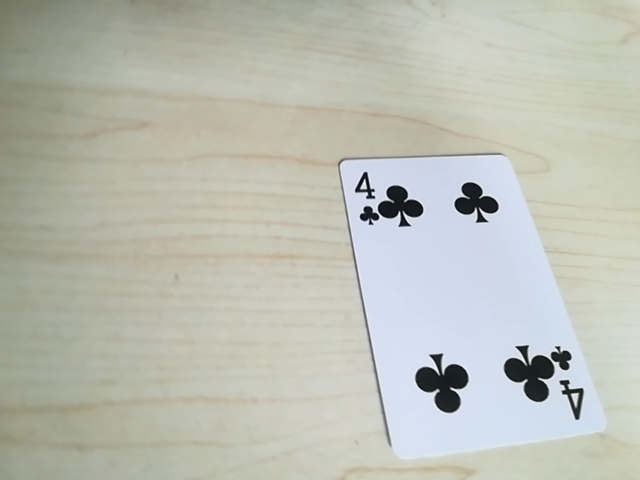mh 4: (348, 168, 495, 233), (549, 342, 582, 420)
